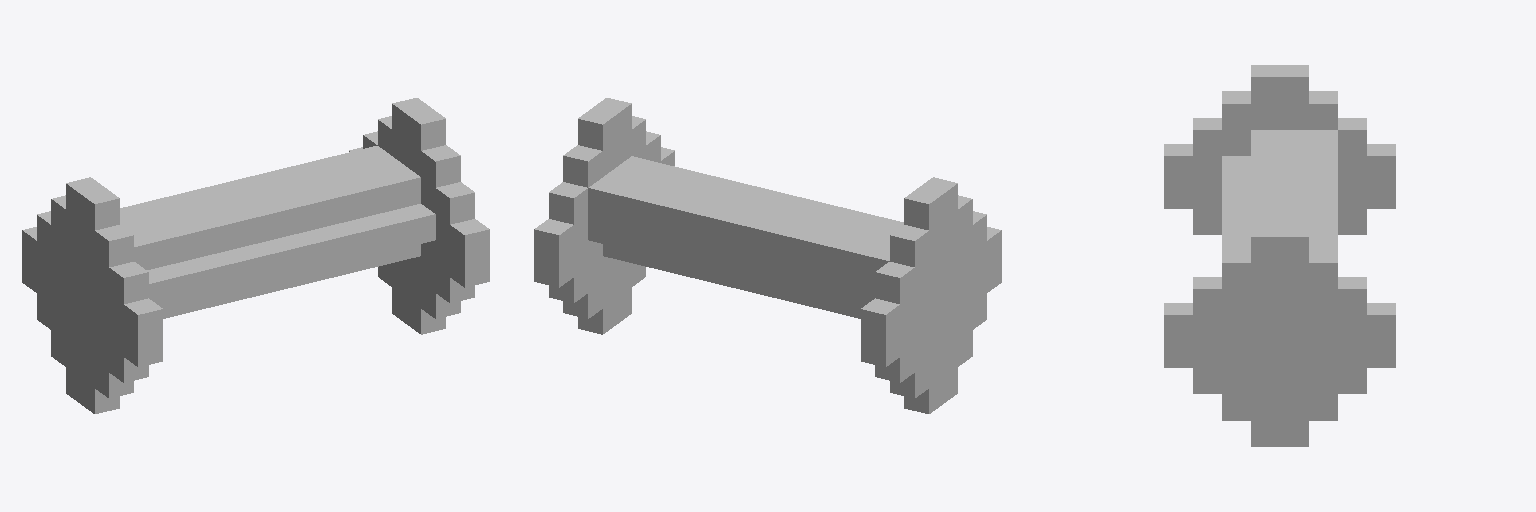
File: drone.obj
The picture shows the model from 3 angles: view 1: azimuth 30°, elevation 25°; view 2: azimuth 150°, elevation 25°; view 3: azimuth 270°, elevation 25°; orthographic projection.
Visible parts, largest first — view 1: object 1; view 2: object 1; view 3: object 1.
Boxes of the visible parts, x1,y1,x2,y2 form: object 1: [22, 98, 489, 413]; object 1: [534, 98, 1001, 413]; object 1: [1164, 65, 1395, 446].
Bounding box in the file's own units: 1.4 × 0.8 × 0.8.